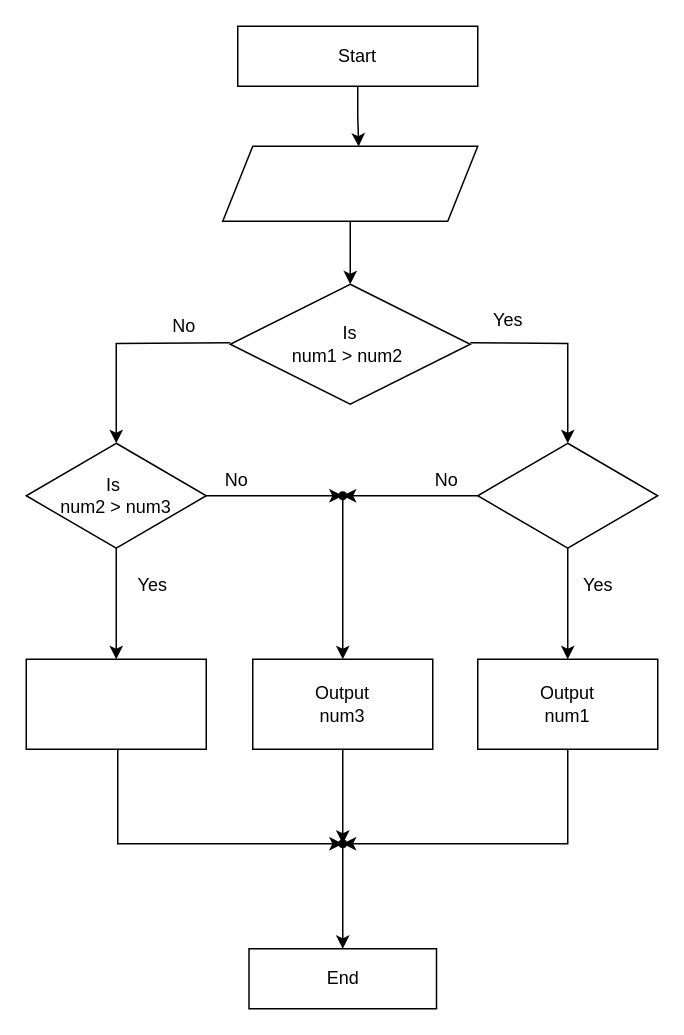
The diagram is 684 pixels wide and 1035 high, and some of its shapes have lost their labels. Here are the shapes that lost their labels. From the top down, the centre of each, then its label:
At (x=349, y=183): "Input num1 , num2 , num3".
At (x=567, y=495): "Is num1 > num3".
At (x=115, y=703): "Output num2".
